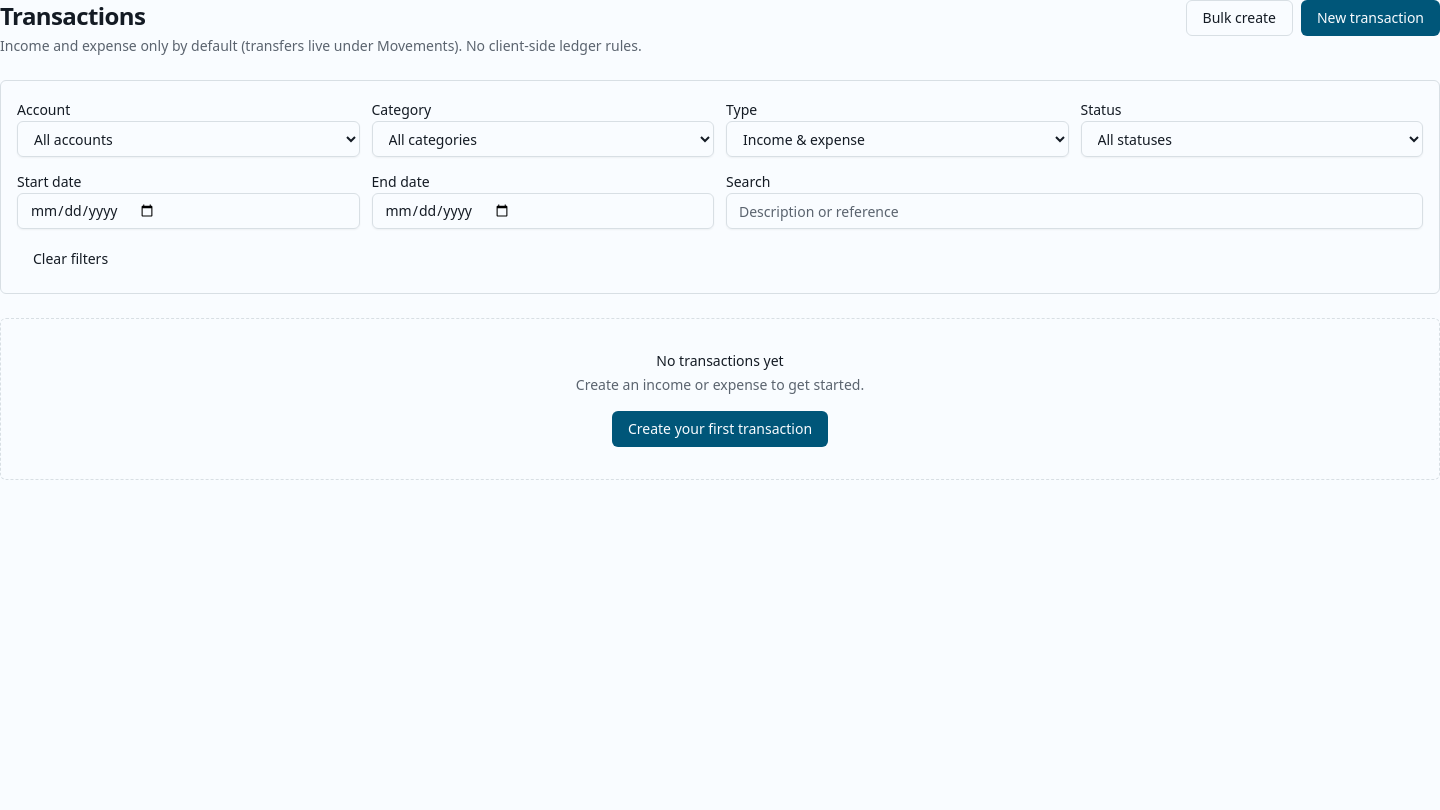
Test: TransactionsPage › surfaces bulk_too_large from the bulk dialog
Expected: the text "No transactions yet" is shown, top-left (656, 351), bottom-right (784, 370)
Click the button "Bulk create".
click(1239, 18)  # box top-left (1186, 0), bottom-right (1293, 36)
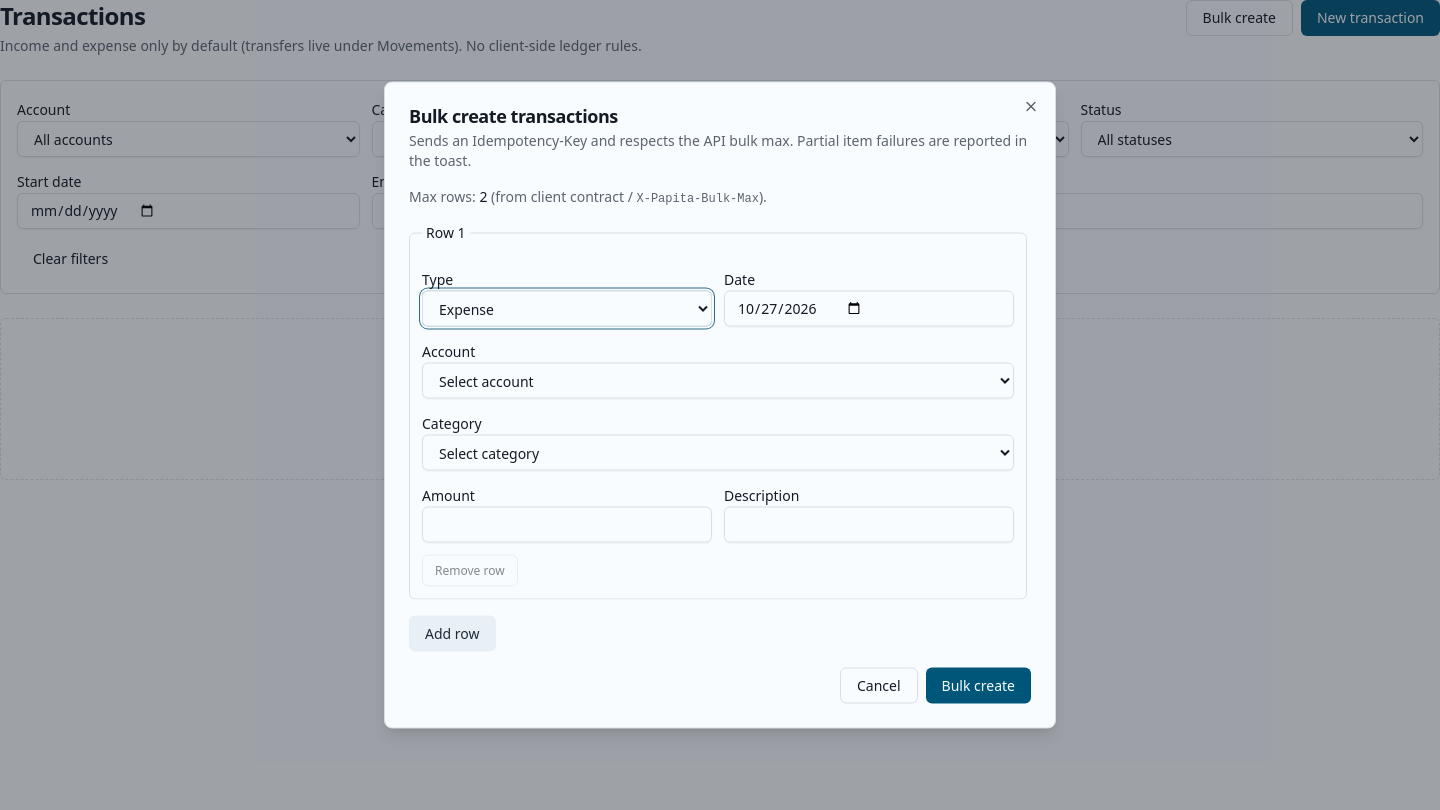
Select "Checking" in the dropdown labelled "Account" at (718, 380), box top-left (422, 362), bottom-right (1014, 398)
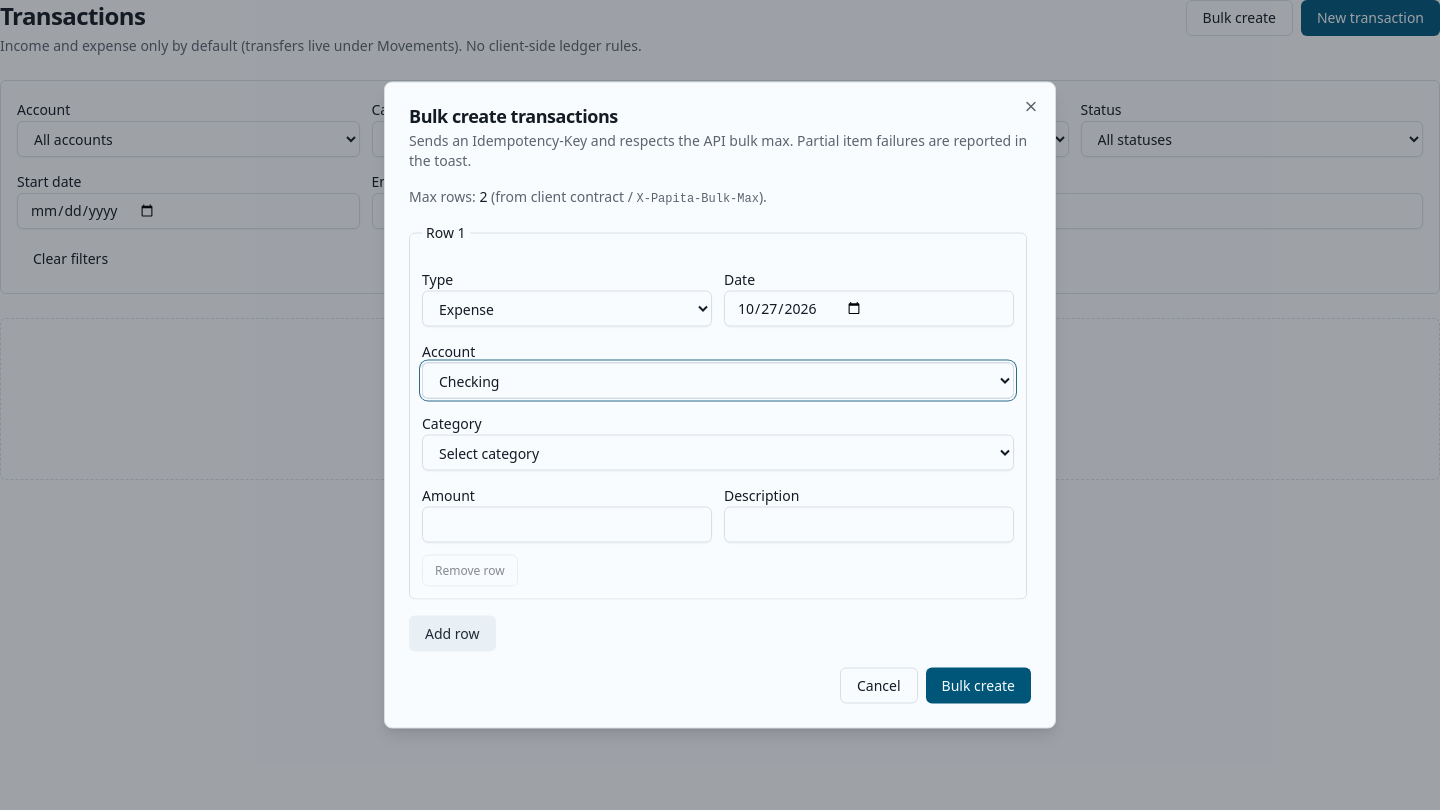
Select "Food" in the dropdown labelled "Category" at (718, 452), box top-left (422, 434), bottom-right (1014, 470)
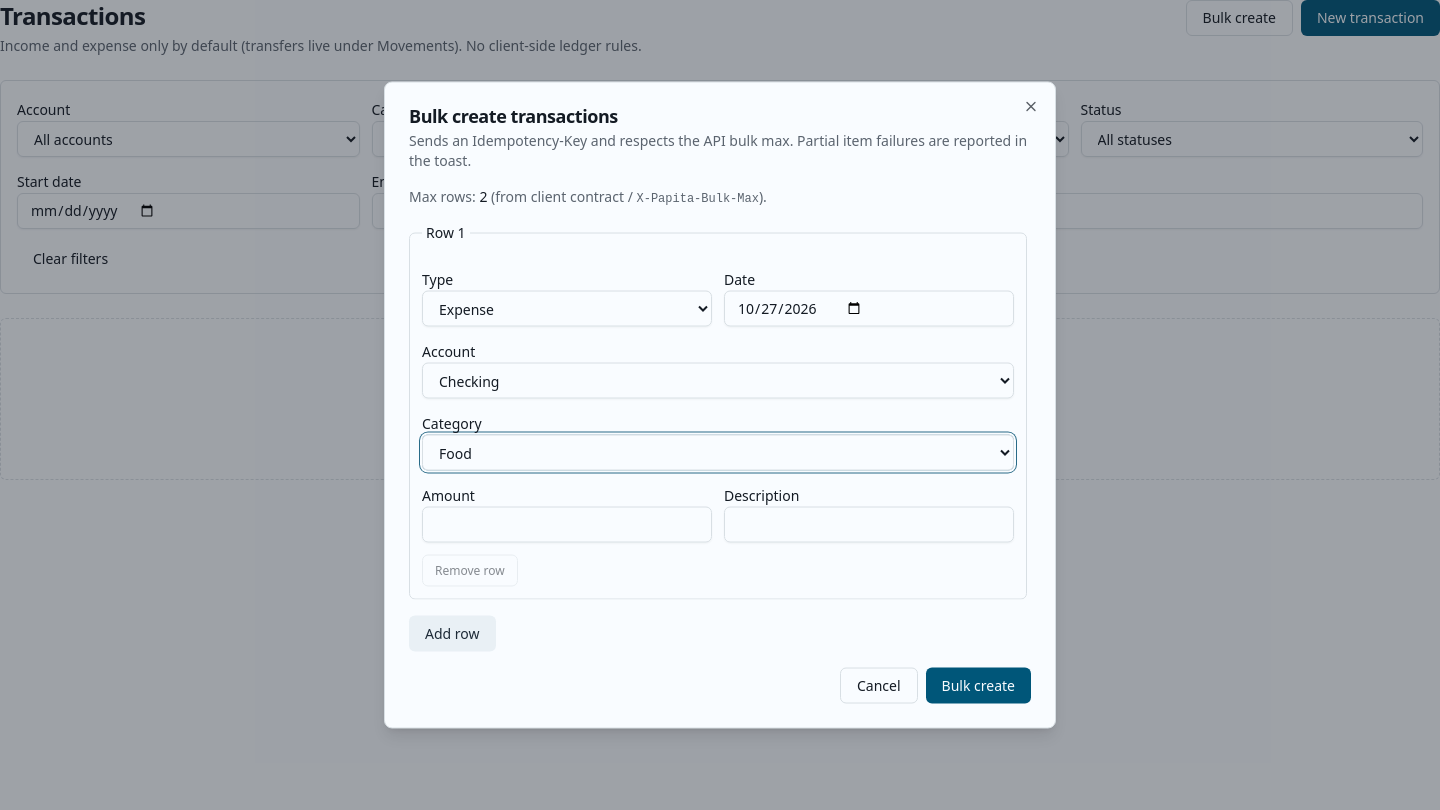
Type "5" into the field labelled "Amount".
click(567, 524); type("5")  # box top-left (422, 506), bottom-right (712, 542)
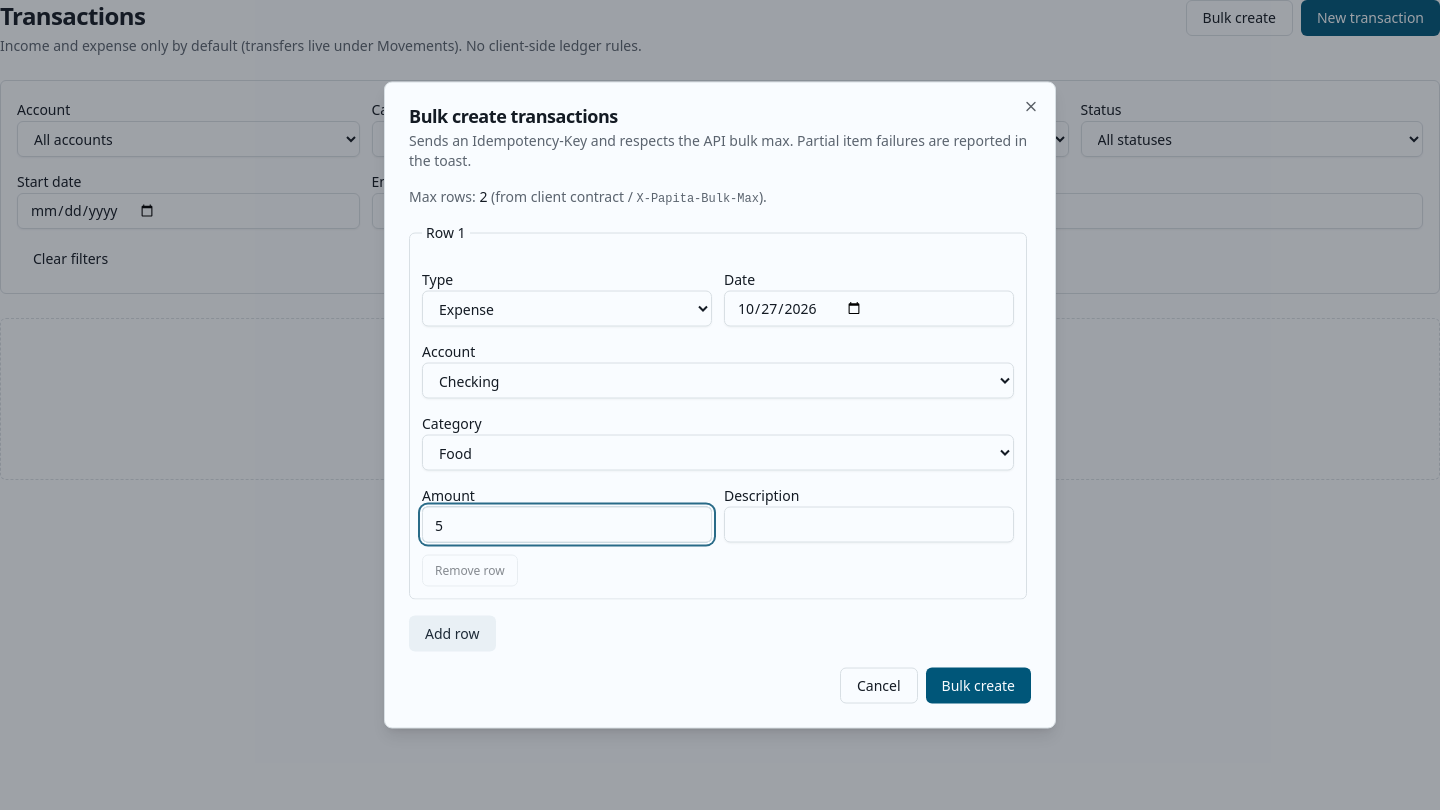
Click the button "Bulk create".
click(978, 686)  # box top-left (926, 668), bottom-right (1031, 704)
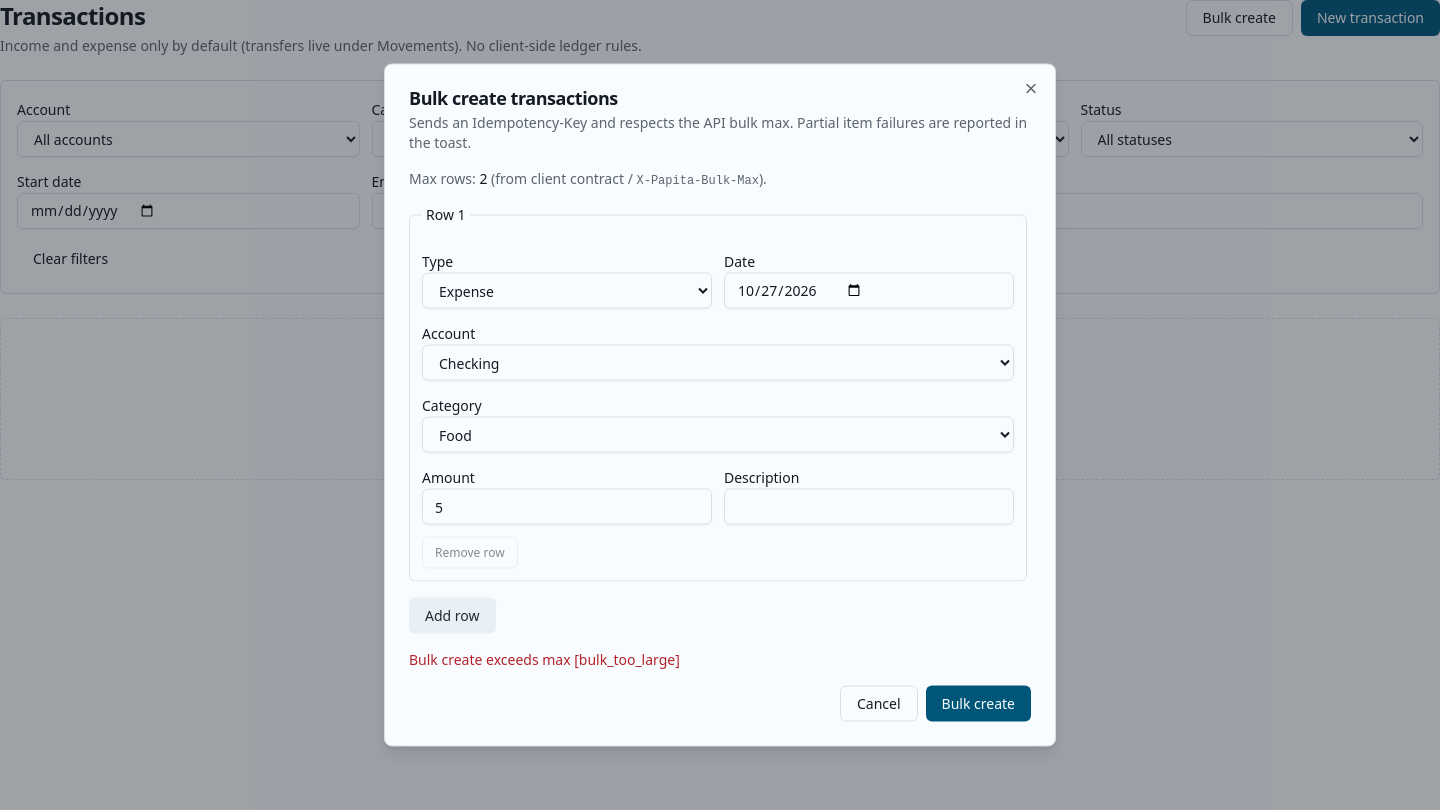
Now the message shows "bulk_too_large", box top-left (409, 650), bottom-right (680, 668)
